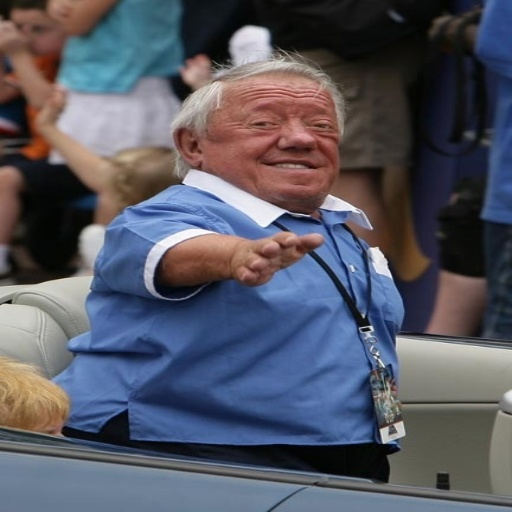hand: (167, 225, 335, 284), (170, 52, 209, 86), (0, 18, 32, 55), (34, 90, 60, 128), (45, 0, 73, 15)
